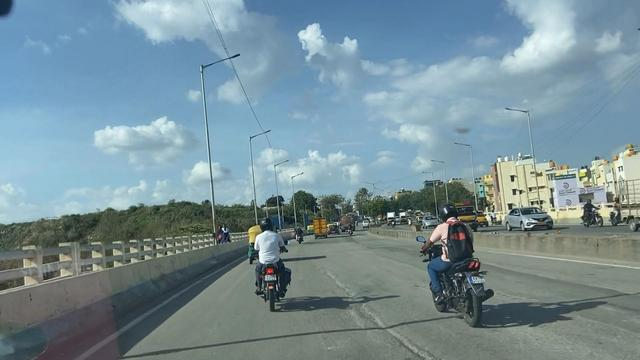LMV: (411, 196, 505, 337)
